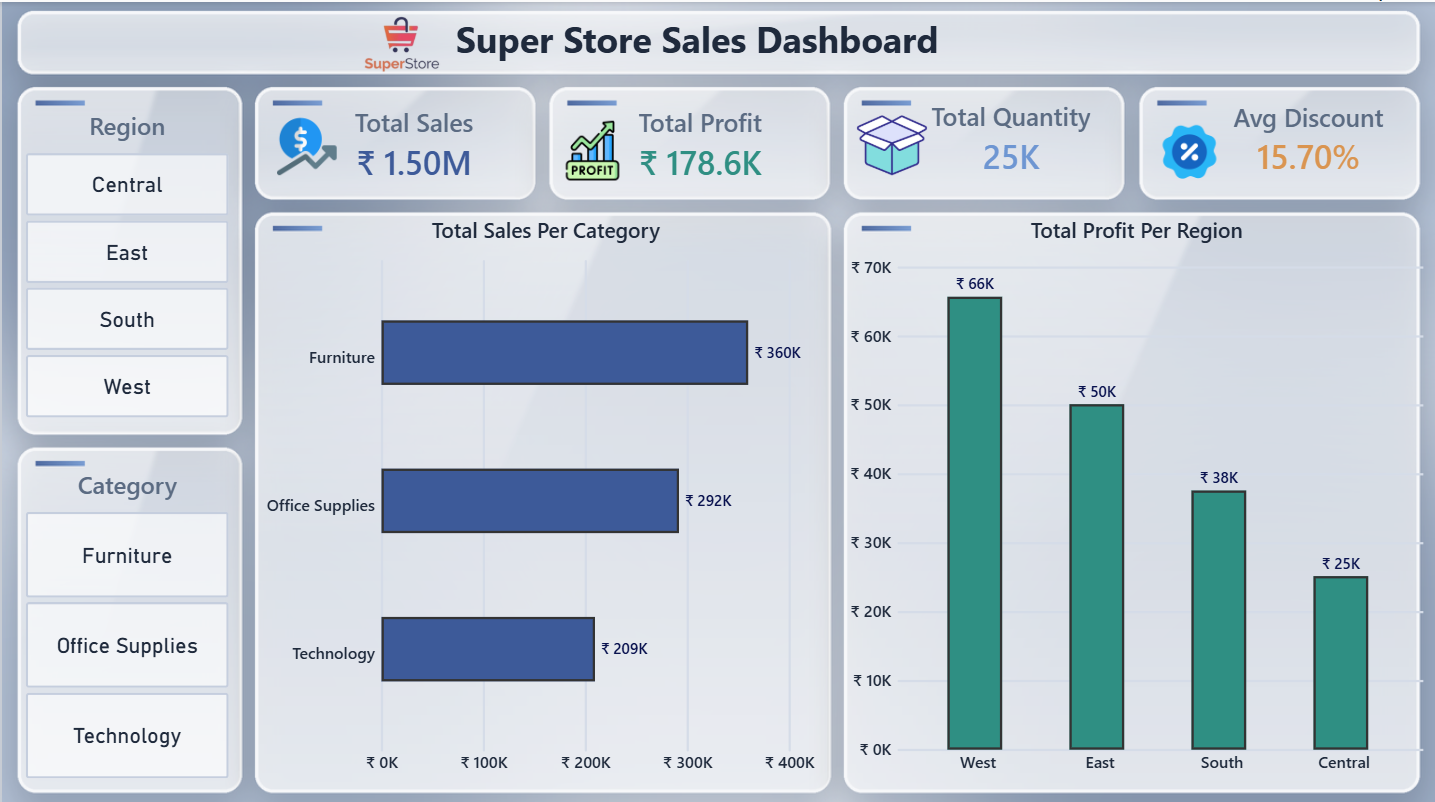

The dashboard page shown, as its layout file describes it:
{"tool":"powerbi","page":{"name":"Dashboard","canvas":[1920,1080],"ordinal":0},"visuals":[{"type":"cardVisual","fields":{"Data":["Sum(Sample - Superstore.Sales)"]},"box":[432,128,240,128],"z":0,"group":"g1"},{"type":"clusteredBarChart","title":"Total Sales Per Category","fields":{"Category":["Sample - Superstore.Category"],"Y":["Sum(Sample - Superstore.Sales)"]},"box":[336,272,784,784],"z":0},{"type":"cardVisual","fields":{"Data":["Sum(Sample - Superstore.Profit)"]},"box":[816,128,240,128],"z":1000,"group":"g2"},{"type":"clusteredColumnChart","title":"Total Profit Per Region","fields":{"Category":["Sample - Superstore.Region"],"Y":["Sum(Sample - Superstore.Profit)"]},"box":[1120,272,800,784],"z":1000},{"type":"cardVisual","fields":{"Data":["Sum(Sample - Superstore.Quantity)"]},"box":[1216,128,272,112],"z":2000,"group":"g3"},{"type":"advancedSlicerVisual","fields":{"Values":["Sample - Superstore.Region"]},"box":[32,144,272,416],"z":2000},{"type":"cardVisual","fields":{"Data":["Avg(Sample - Superstore.Discount)"]},"box":[1616,112,272,144],"z":3000,"group":"g4"},{"type":"advancedSlicerVisual","fields":{"Values":["Sample - Superstore.Category"]},"box":[32,624,272,416],"z":3000},{"type":"textbox","box":[608,16,688,64],"z":4000,"group":"g5"},{"type":"group","id":"g1","title":"Group 1","box":[368,128,304,128],"z":5000},{"type":"group","id":"g2","title":"Group 2","box":[736,128,320,128],"z":6000},{"type":"image","box":[368,144,80,96],"z":6003,"group":"g1"},{"type":"image","box":[736,160,112,80],"z":6005,"group":"g2"},{"type":"image","box":[1120,144,144,96],"z":6007,"group":"g3"},{"type":"image","box":[1520,160,144,80],"z":6009,"group":"g4"},{"type":"group","id":"g3","title":"Group 3","box":[1120,128,368,112],"z":7000},{"type":"group","id":"g4","title":"Group 4","box":[1520,112,368,144],"z":8000},{"type":"image","box":[432,16,208,80],"z":9000,"group":"g5"},{"type":"group","id":"g5","title":"Group 5","box":[432,16,864,80],"z":9001}]}

Visuals, with their boxes in screenshot pixels (x1, y1, x2, y2), scaled from the page's 1920x1080 canvas onto the 1435x802 screenshot:
cardVisual - Sum(Sample - Superstore.Sales): Rect(323, 95, 502, 190)
"Total Sales Per Category" clusteredBarChart: Rect(251, 202, 837, 784)
cardVisual - Sum(Sample - Superstore.Profit): Rect(610, 95, 789, 190)
"Total Profit Per Region" clusteredColumnChart: Rect(837, 202, 1434, 784)
cardVisual - Sum(Sample - Superstore.Quantity): Rect(909, 95, 1112, 178)
advancedSlicerVisual - Sample - Superstore.Region: Rect(24, 107, 227, 416)
cardVisual - Avg(Sample - Superstore.Discount): Rect(1208, 83, 1411, 190)
advancedSlicerVisual - Sample - Superstore.Category: Rect(24, 463, 227, 772)
textbox: Rect(454, 12, 969, 59)
"Group 1" group: Rect(275, 95, 502, 190)
"Group 2" group: Rect(550, 95, 789, 190)
image: Rect(275, 107, 335, 178)
image: Rect(550, 119, 634, 178)
image: Rect(837, 107, 945, 178)
image: Rect(1136, 119, 1244, 178)
"Group 3" group: Rect(837, 95, 1112, 178)
"Group 4" group: Rect(1136, 83, 1411, 190)
image: Rect(323, 12, 478, 71)
"Group 5" group: Rect(323, 12, 969, 71)
